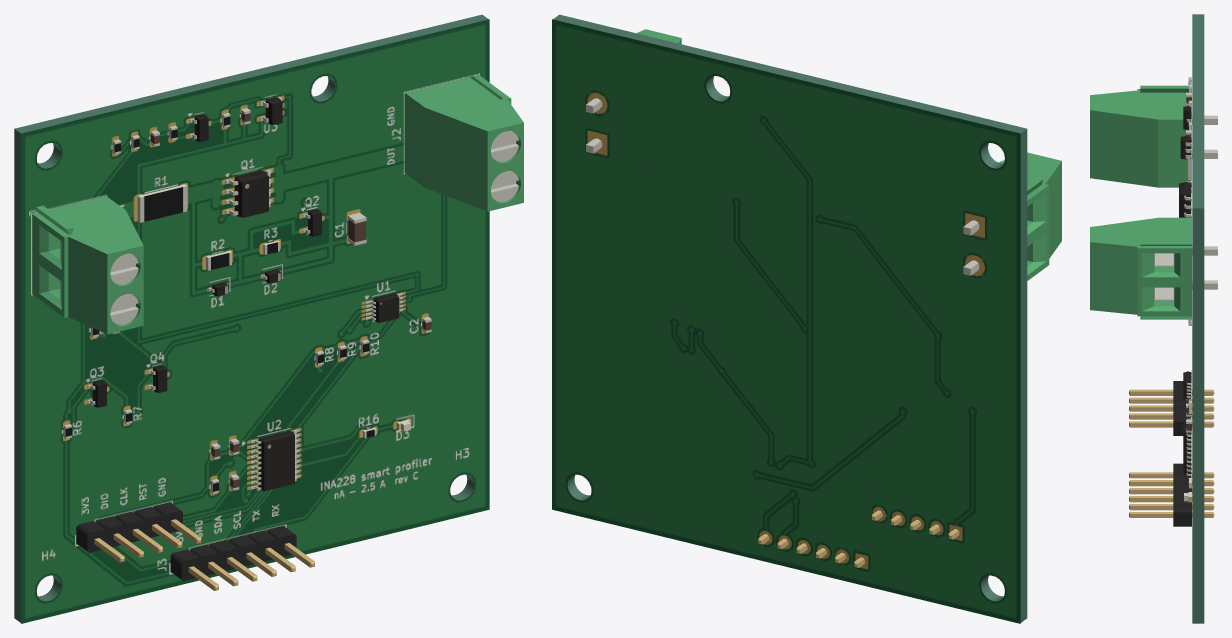
The model's file is current_smart.glb.
3 renders of one model, left to right at view 1: azimuth 30°, elevation 25°; view 2: azimuth 150°, elevation 25°; view 3: azimuth 270°, elevation 25°, orthographic. The views are drawn at different scales.
Parts seen in each view (by area): view 1: pcb_top_layers, =>[0:1:1:25]_1_47f8ab, =>[0:1:1:25]_1_5a8446, =>[0:1:1:34]_7a582c, =>[0:1:1:25]_bd67cd, =>[0:1:1:34]_b8a0e8, =>[0:1:1:25]_ae0f39, =>[0:1:1:15]_63436b, =>[0:1:1:25]_1_f59b33, =>[0:1:1:25]_8c7069, =>[0:1:1:25]_1_ccac0f, =>[0:1:1:23]_bf8ede (+4 smaller); view 2: pcb_bottom_layers, =>[0:1:1:34]_7a582c, =>[0:1:1:34]_b8a0e8, =>[0:1:1:25]_ae0f39, =>[0:1:1:25]_bd67cd, =>[0:1:1:25]_8da40f; view 3: =>[0:1:1:34], =>[0:1:1:25], =>[0:1:1:25]_1_46de47, =>[0:1:1:25]_1_5a8446, =>[0:1:1:34]_b8a0e8, =>[0:1:1:25]_bd67cd, =>[0:1:1:25]_1_2e0c7a, =>[0:1:1:25]_75c7f8, =>[0:1:1:3], =>[0:1:1:25]_1_fbc97a, =>[0:1:1:25]_1_92bb42, =>[0:1:1:15]_c11873 (+12 smaller).
Part boxes in pixels (<box>): pcb_top_layers: <box>21,19,489,623</box>; =>[0:1:1:25]_1_47f8ab: <box>425,107,487,211</box>; =>[0:1:1:25]_1_5a8446: <box>405,75,523,131</box>; =>[0:1:1:34]_7a582c: <box>14,129,20,622</box>; =>[0:1:1:25]_bd67cd: <box>32,196,143,254</box>; =>[0:1:1:34]_b8a0e8: <box>15,14,488,133</box>; =>[0:1:1:25]_ae0f39: <box>68,237,107,333</box>; =>[0:1:1:15]_63436b: <box>181,534,296,581</box>; =>[0:1:1:25]_1_f59b33: <box>405,93,424,187</box>; =>[0:1:1:25]_8c7069: <box>107,245,143,334</box>; =>[0:1:1:25]_1_ccac0f: <box>487,122,523,211</box>; =>[0:1:1:23]_bf8ede: <box>264,435,294,490</box>; pcb_bottom_layers: <box>552,19,1020,623</box>; =>[0:1:1:34]_7a582c: <box>1020,129,1027,622</box>; =>[0:1:1:34]_b8a0e8: <box>553,14,1026,133</box>; =>[0:1:1:25]_ae0f39: <box>1045,161,1061,258</box>; =>[0:1:1:25]_bd67cd: <box>998,152,1061,200</box>; =>[0:1:1:25]_8da40f: <box>1027,185,1049,280</box>; =>[0:1:1:34]: <box>1192,208,1204,623</box>; =>[0:1:1:25]: <box>1090,110,1217,187</box>; =>[0:1:1:25]_1_46de47: <box>1090,242,1137,314</box>; =>[0:1:1:25]_1_5a8446: <box>1090,217,1191,248</box>; =>[0:1:1:34]_b8a0e8: <box>1192,14,1204,208</box>; =>[0:1:1:25]_bd67cd: <box>1090,89,1191,119</box>; =>[0:1:1:25]_1_2e0c7a: <box>1137,248,1191,316</box>; =>[0:1:1:25]_75c7f8: <box>1158,119,1191,187</box>; =>[0:1:1:3]: <box>1129,389,1214,427</box>; =>[0:1:1:25]_1_fbc97a: <box>1141,253,1154,276</box>; =>[0:1:1:25]_1_92bb42: <box>1141,287,1154,310</box>; =>[0:1:1:15]_c11873: <box>1173,512,1191,525</box>.
Size of the model in its own units: 0.0621 by 0.0621 by 0.0173.
13 materials, 2 textured.
